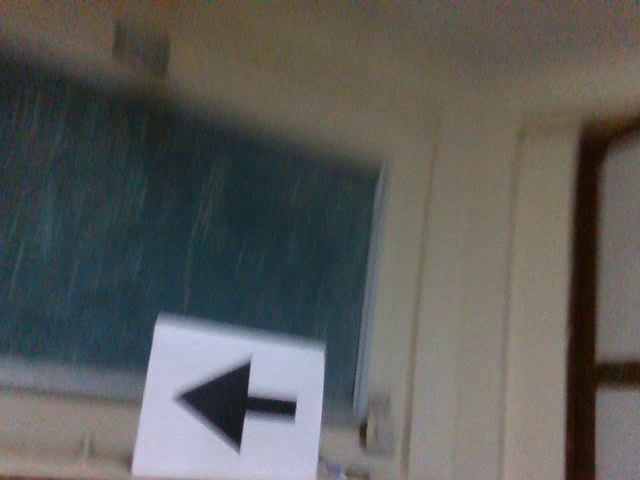Left: (167, 352, 304, 457)
